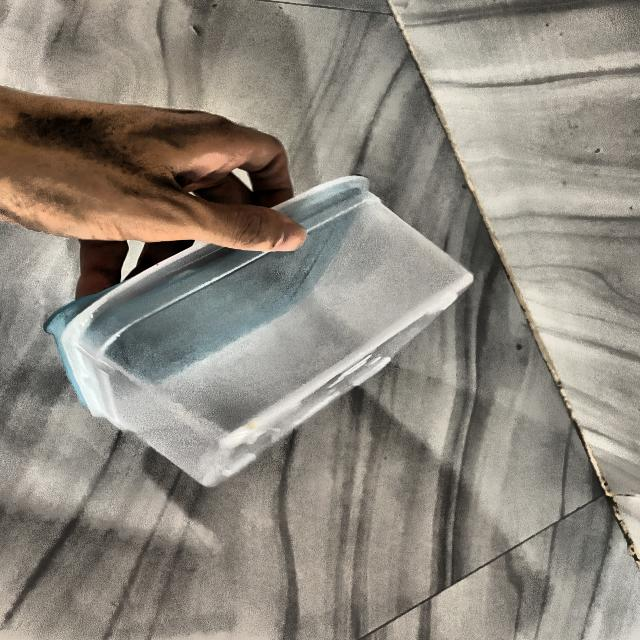plastic container: (84, 135, 444, 475)
